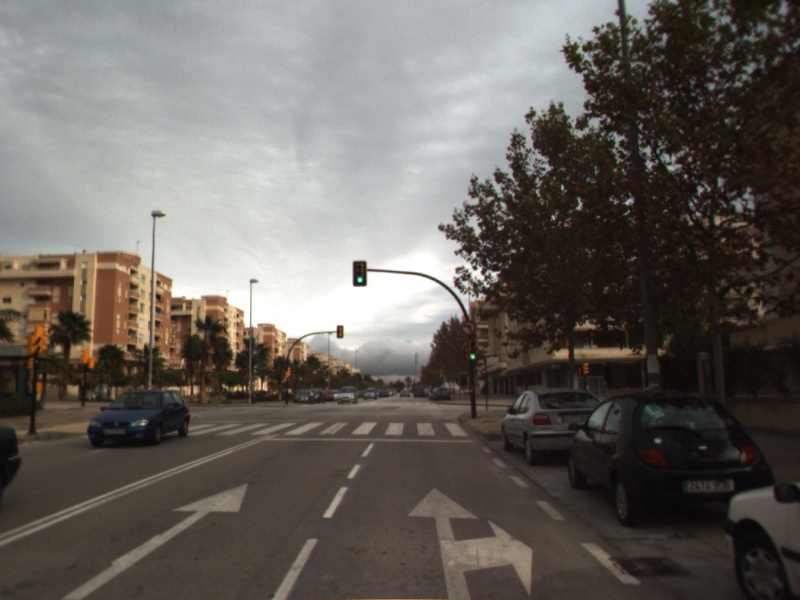STRAIGHT: (58, 481, 250, 600)
STRAIGHT_RIGHT: (405, 484, 535, 599)
